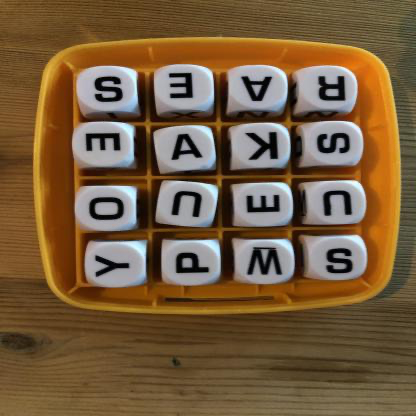a: (155, 127, 216, 169), (228, 67, 289, 108)
e: (74, 122, 135, 167), (154, 66, 215, 108), (233, 185, 290, 228)
k: (233, 123, 291, 168)
o: (75, 187, 135, 231)
p: (163, 242, 222, 286)
r: (300, 66, 358, 108)
s: (307, 237, 367, 281), (304, 121, 365, 164), (80, 66, 138, 108)
u: (158, 183, 215, 227), (308, 183, 366, 225)
w: (234, 239, 294, 285)
y: (84, 243, 145, 289)
